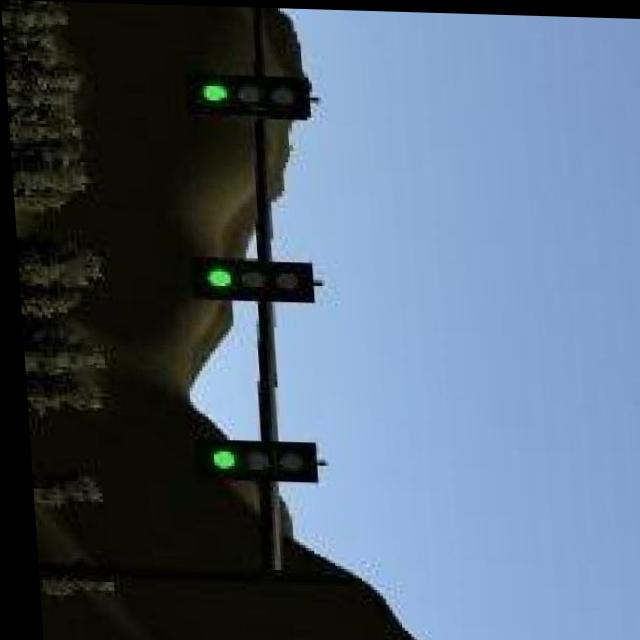green light: (187, 256, 309, 302), (191, 439, 310, 482), (187, 76, 309, 116)
